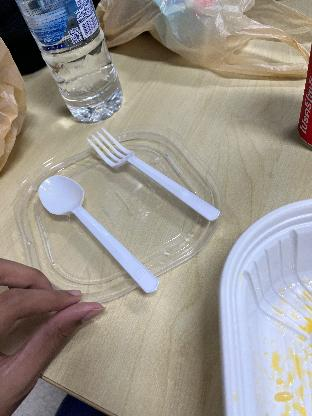Others: (33, 172, 165, 294), (81, 129, 220, 229)
Plastic Bottle: (17, 0, 123, 122)
